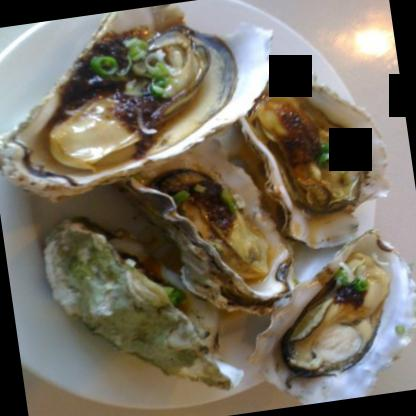oyster: (0, 0, 284, 201), (32, 200, 244, 414), (239, 229, 415, 410), (132, 145, 302, 330), (235, 65, 394, 251)
